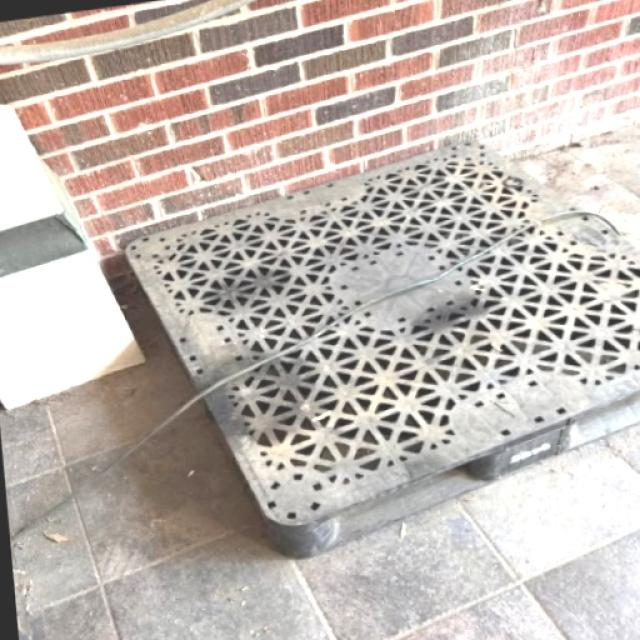non-igps: (117, 125, 640, 566)
